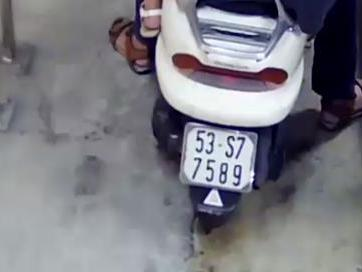num_plate: (181, 122, 257, 193)
